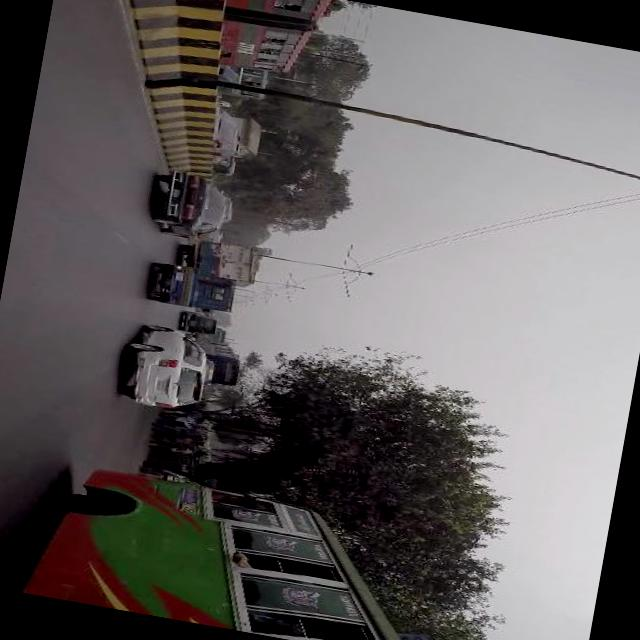bus: (14, 455, 477, 640), (217, 0, 338, 85), (188, 341, 246, 389), (217, 64, 274, 104), (192, 323, 228, 345)
car: (118, 322, 215, 418), (150, 167, 233, 246), (207, 99, 248, 168)
motorcycle: (208, 155, 238, 178)
truck: (139, 260, 241, 317), (176, 237, 262, 291), (178, 310, 220, 337)
